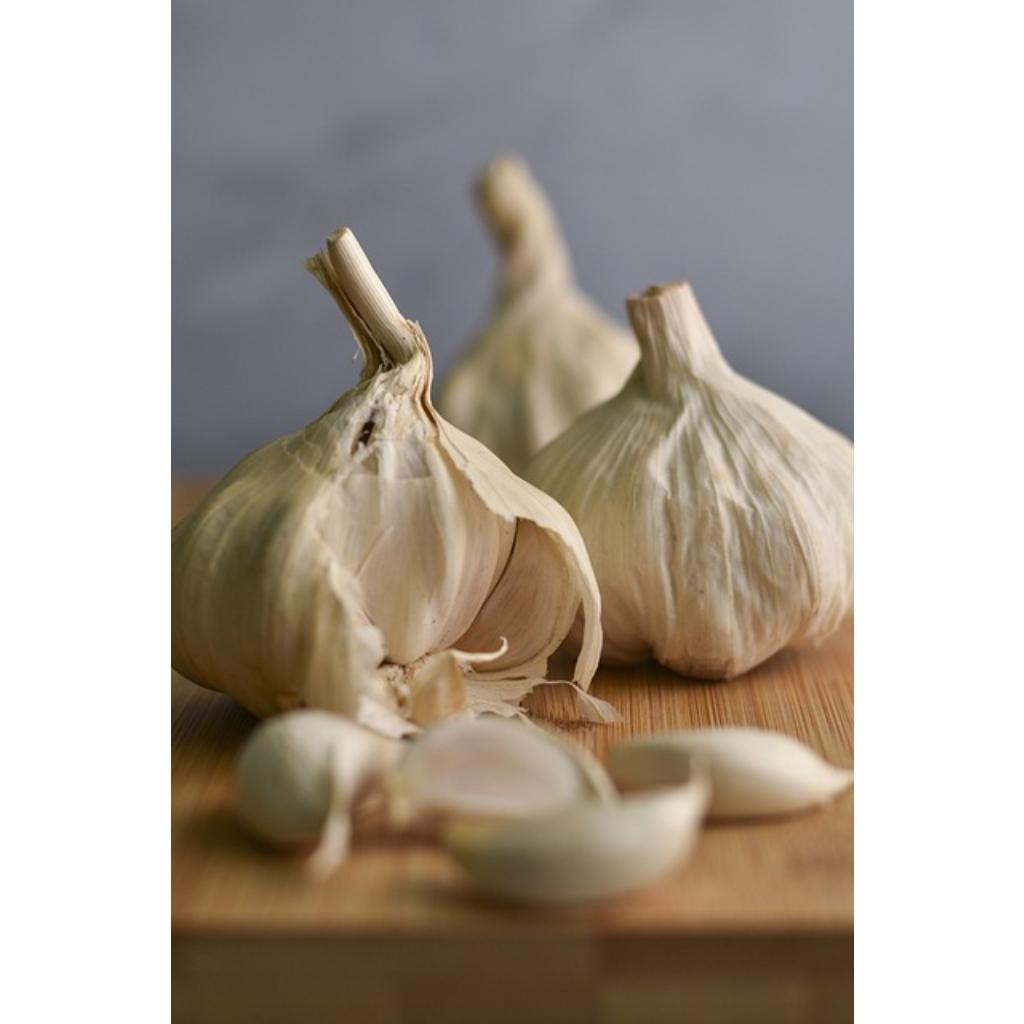garlic: (172, 228, 600, 736), (526, 282, 852, 677)
